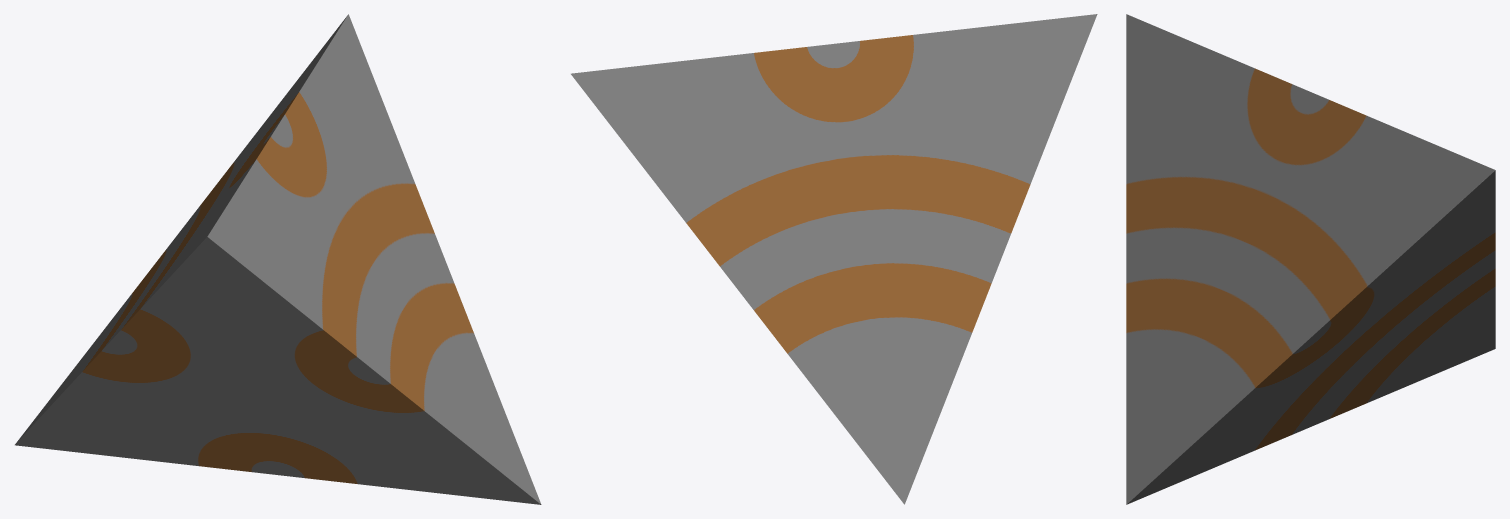
Rendered from tetrahedron_illustration_asymmetic.glb.
The picture shows the model from 3 angles, left to right: view 1: azimuth 30°, elevation 25°; view 2: azimuth 150°, elevation 25°; view 3: azimuth 270°, elevation 25°; orthographic projection. The views are drawn at different scales.
Parts seen in each view (by area): view 1: Cube; view 2: Cube; view 3: Cube.
Boxes of the visible parts, x1,y1,x2,y2 form: Cube: (15, 14, 541, 504); Cube: (571, 14, 1097, 504); Cube: (1126, 14, 1495, 504).
Bounding box in the file's own units: 2 × 2 × 2.
2 materials, 2 textured.
